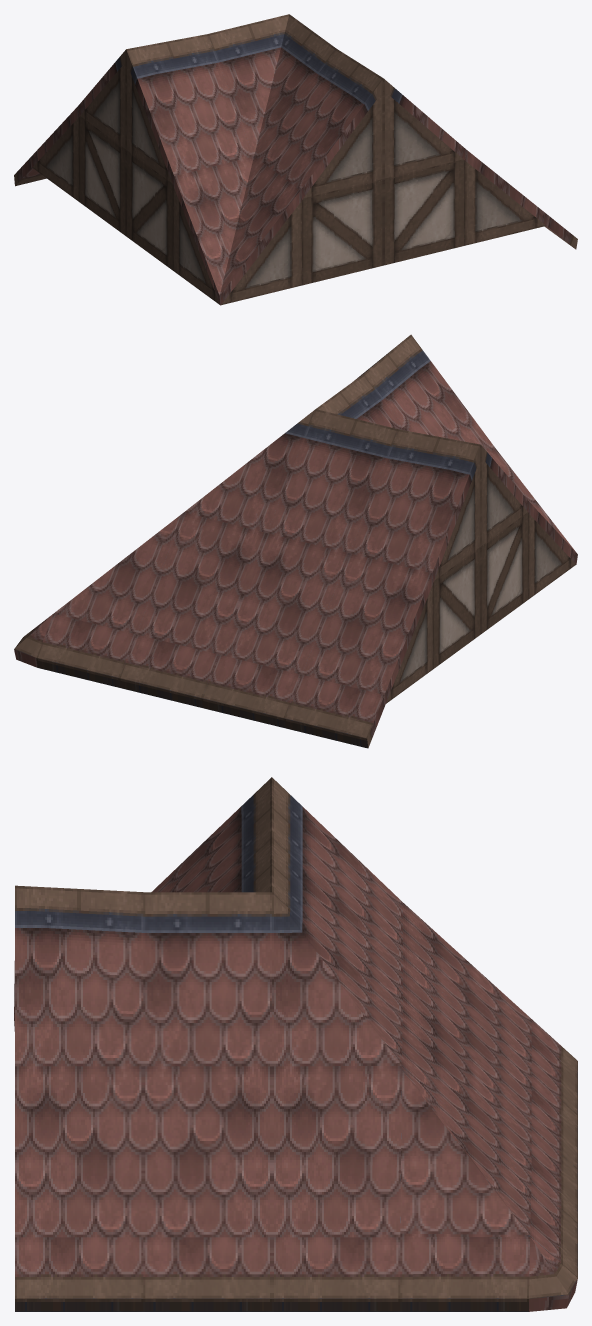
File: roof_red_corner.glb
3 views of the same model, one above another, from view 1: azimuth 30°, elevation 25°; view 2: azimuth 150°, elevation 25°; view 3: azimuth 270°, elevation 25° (orthographic). The views are drawn at different scales.
Visible parts, largest first — view 1: roof_red_corner; view 2: roof_red_corner; view 3: roof_red_corner.
Boxes of the visible parts, left/top/right/bottom form: roof_red_corner: left=14, top=14, right=577, bottom=305; roof_red_corner: left=14, top=334, right=577, bottom=748; roof_red_corner: left=14, top=777, right=577, bottom=1311.
Size of the model in its own units: 4.4 by 2.56 by 4.39.
1 material, 1 textured.
